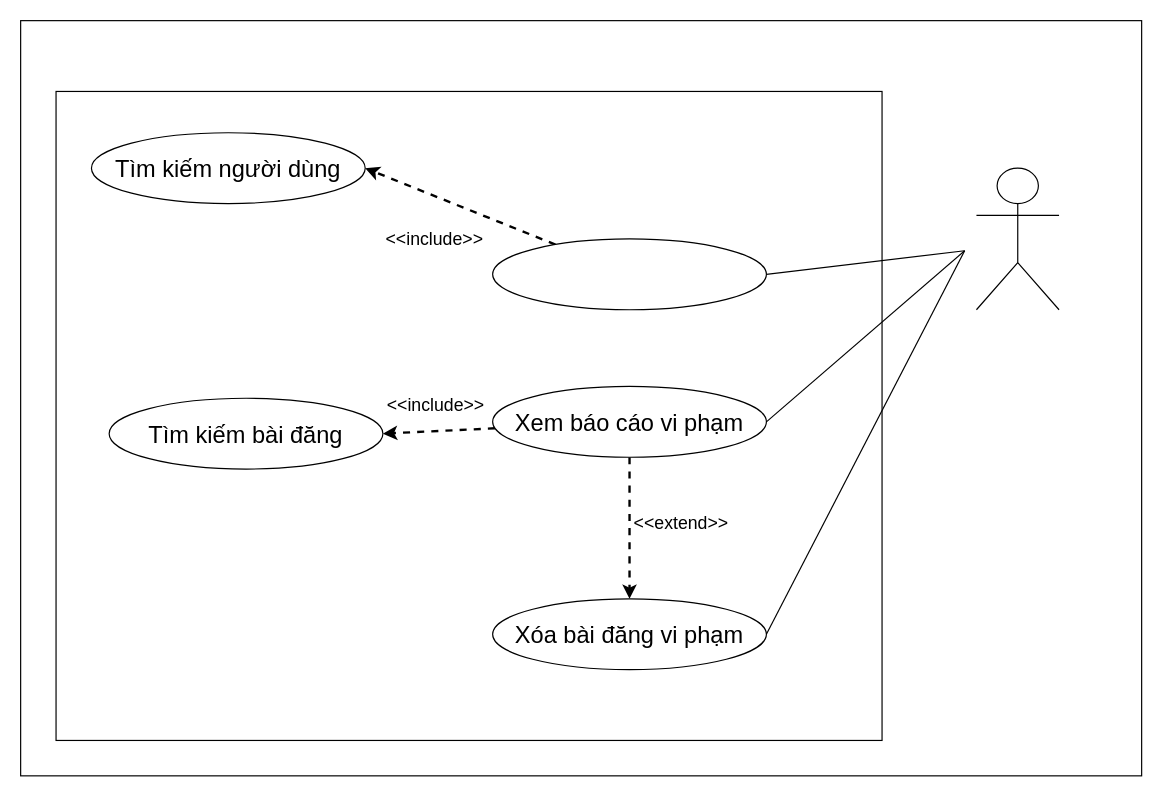
Image size: 1162x796. Some labels were removed from this diagram. Each missing label, with the centre of its shape:
Admin: (1017,238)
Xóa tài khoản: (628,274)
